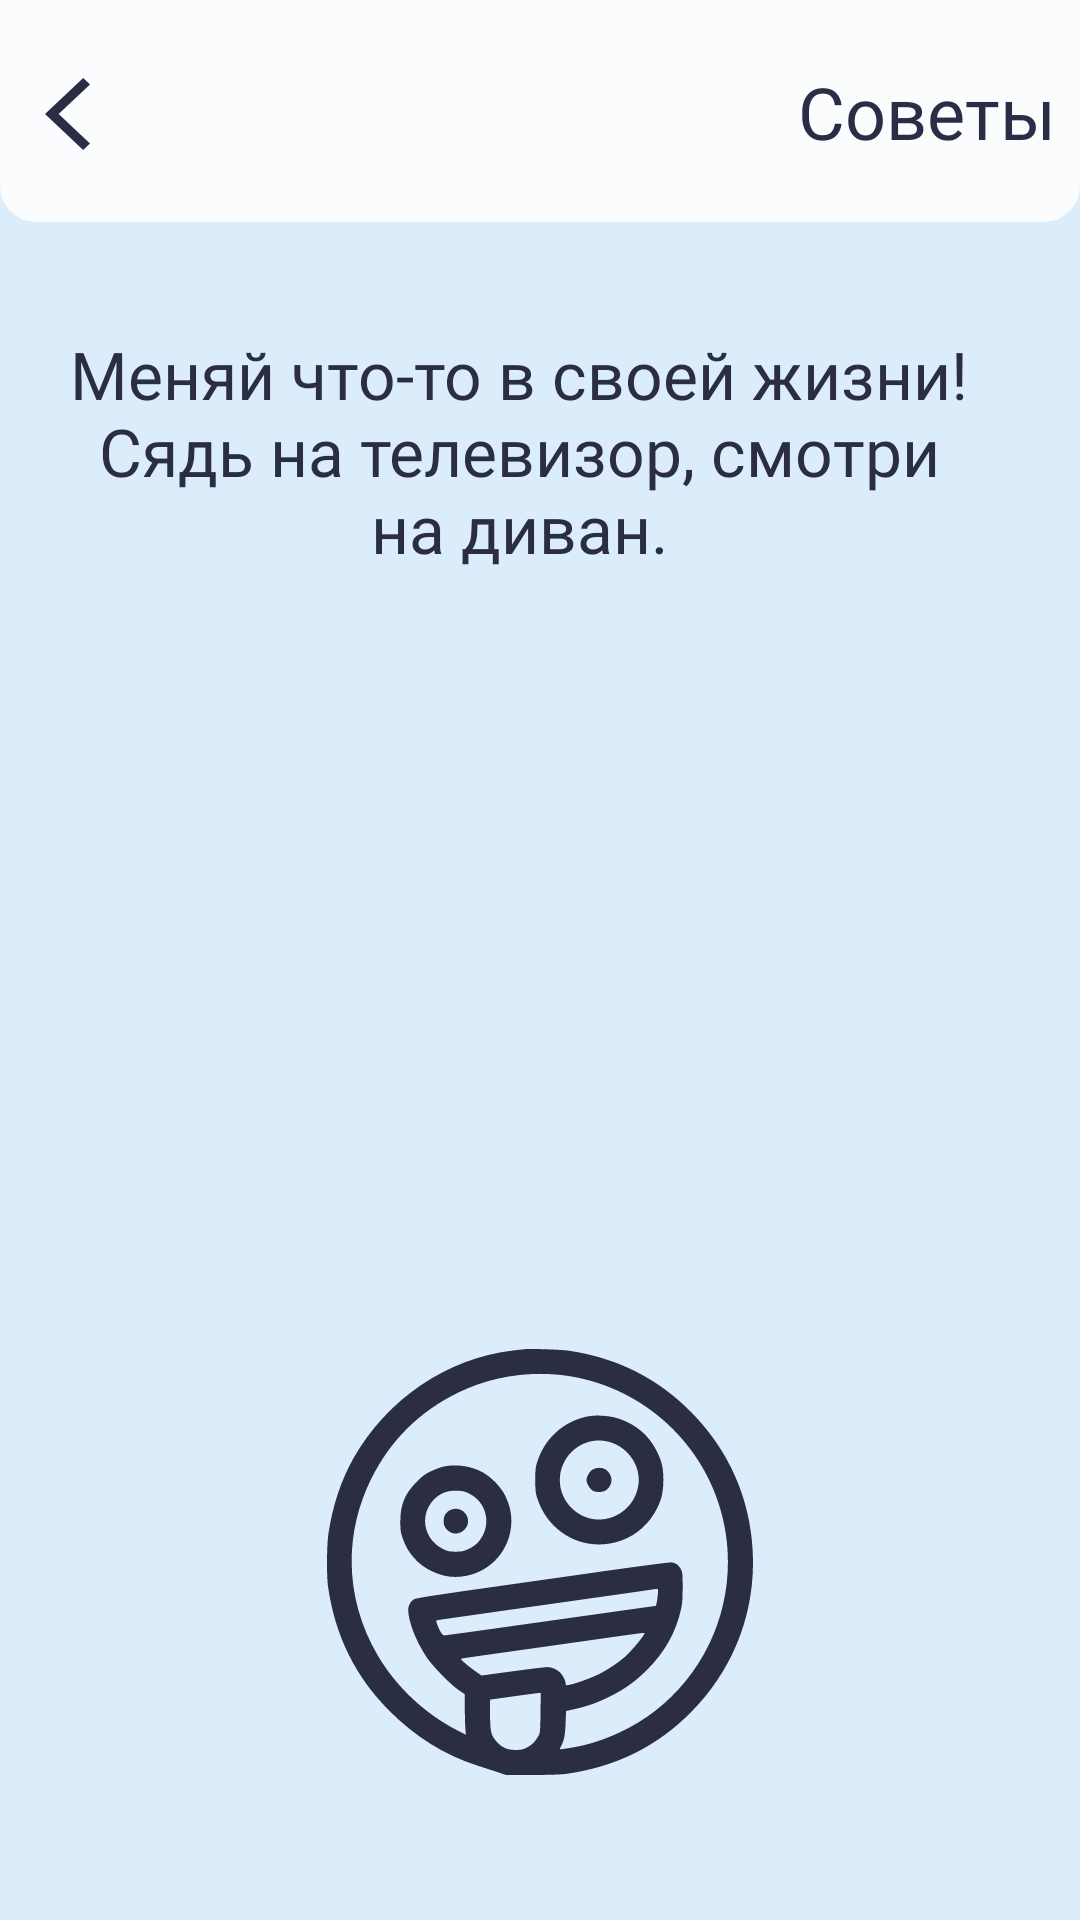

Named icons in this screenshot (1080px x 1920px) and their bounding boxes, region(x1, y1, x2, y2):
back: region(45, 78, 90, 150)
